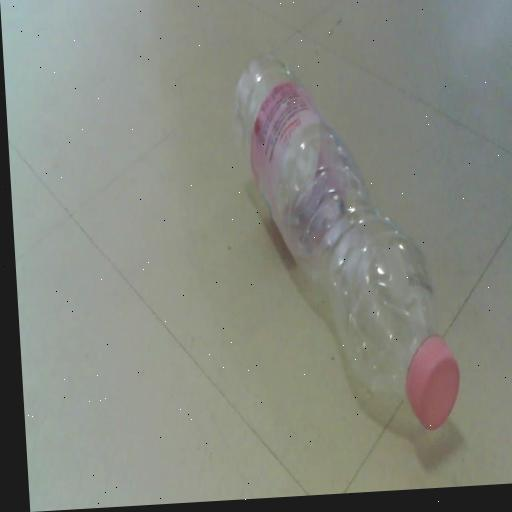bottle: (229, 46, 454, 440)
